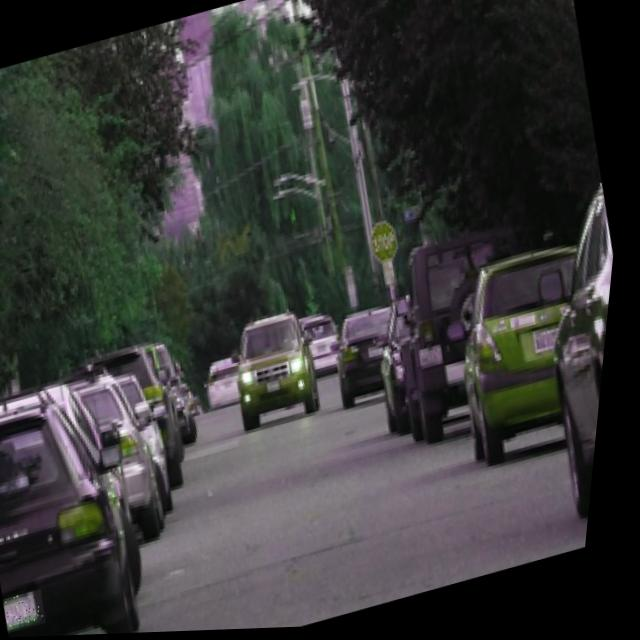license_plate: (12, 589, 61, 633)
